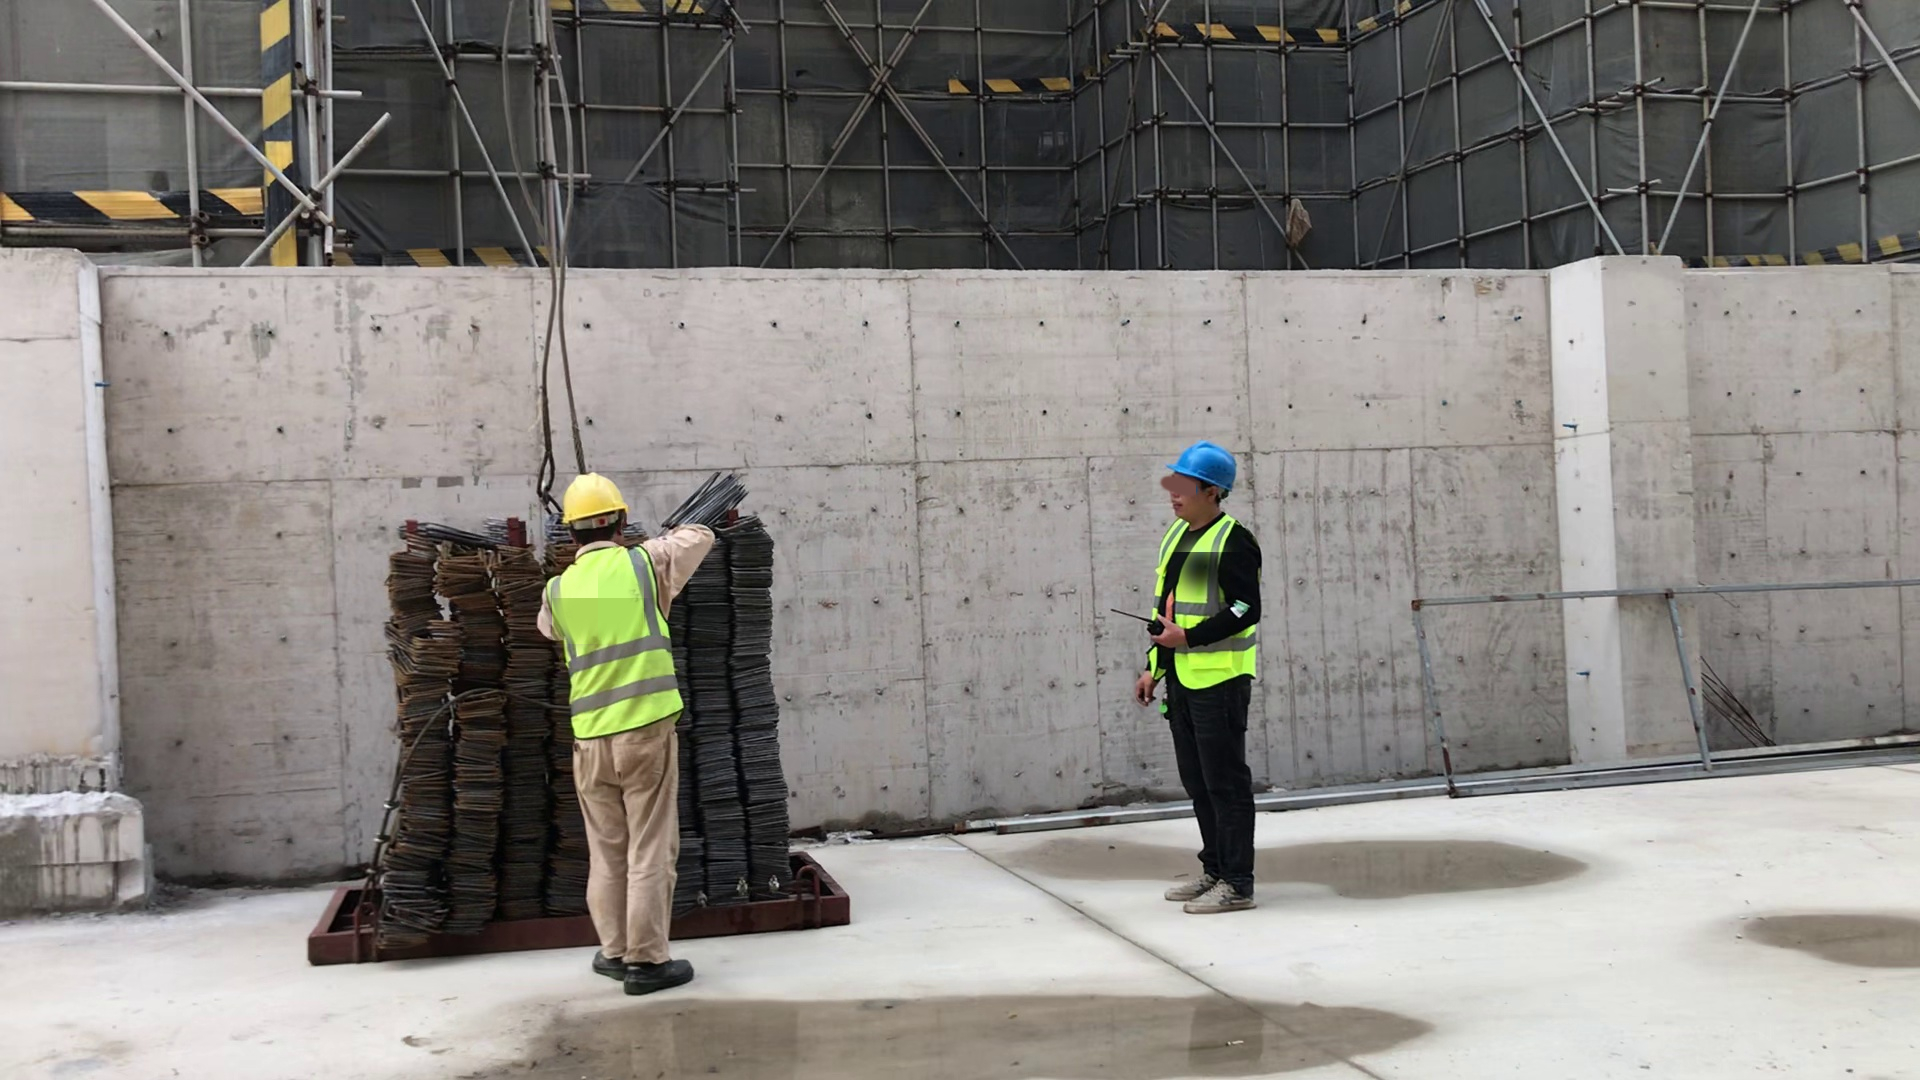helmet: (1162, 437, 1256, 494), (565, 472, 626, 527)
person: (546, 468, 708, 990), (1122, 428, 1286, 914)
vest: (560, 560, 680, 723), (1151, 525, 1266, 681)
